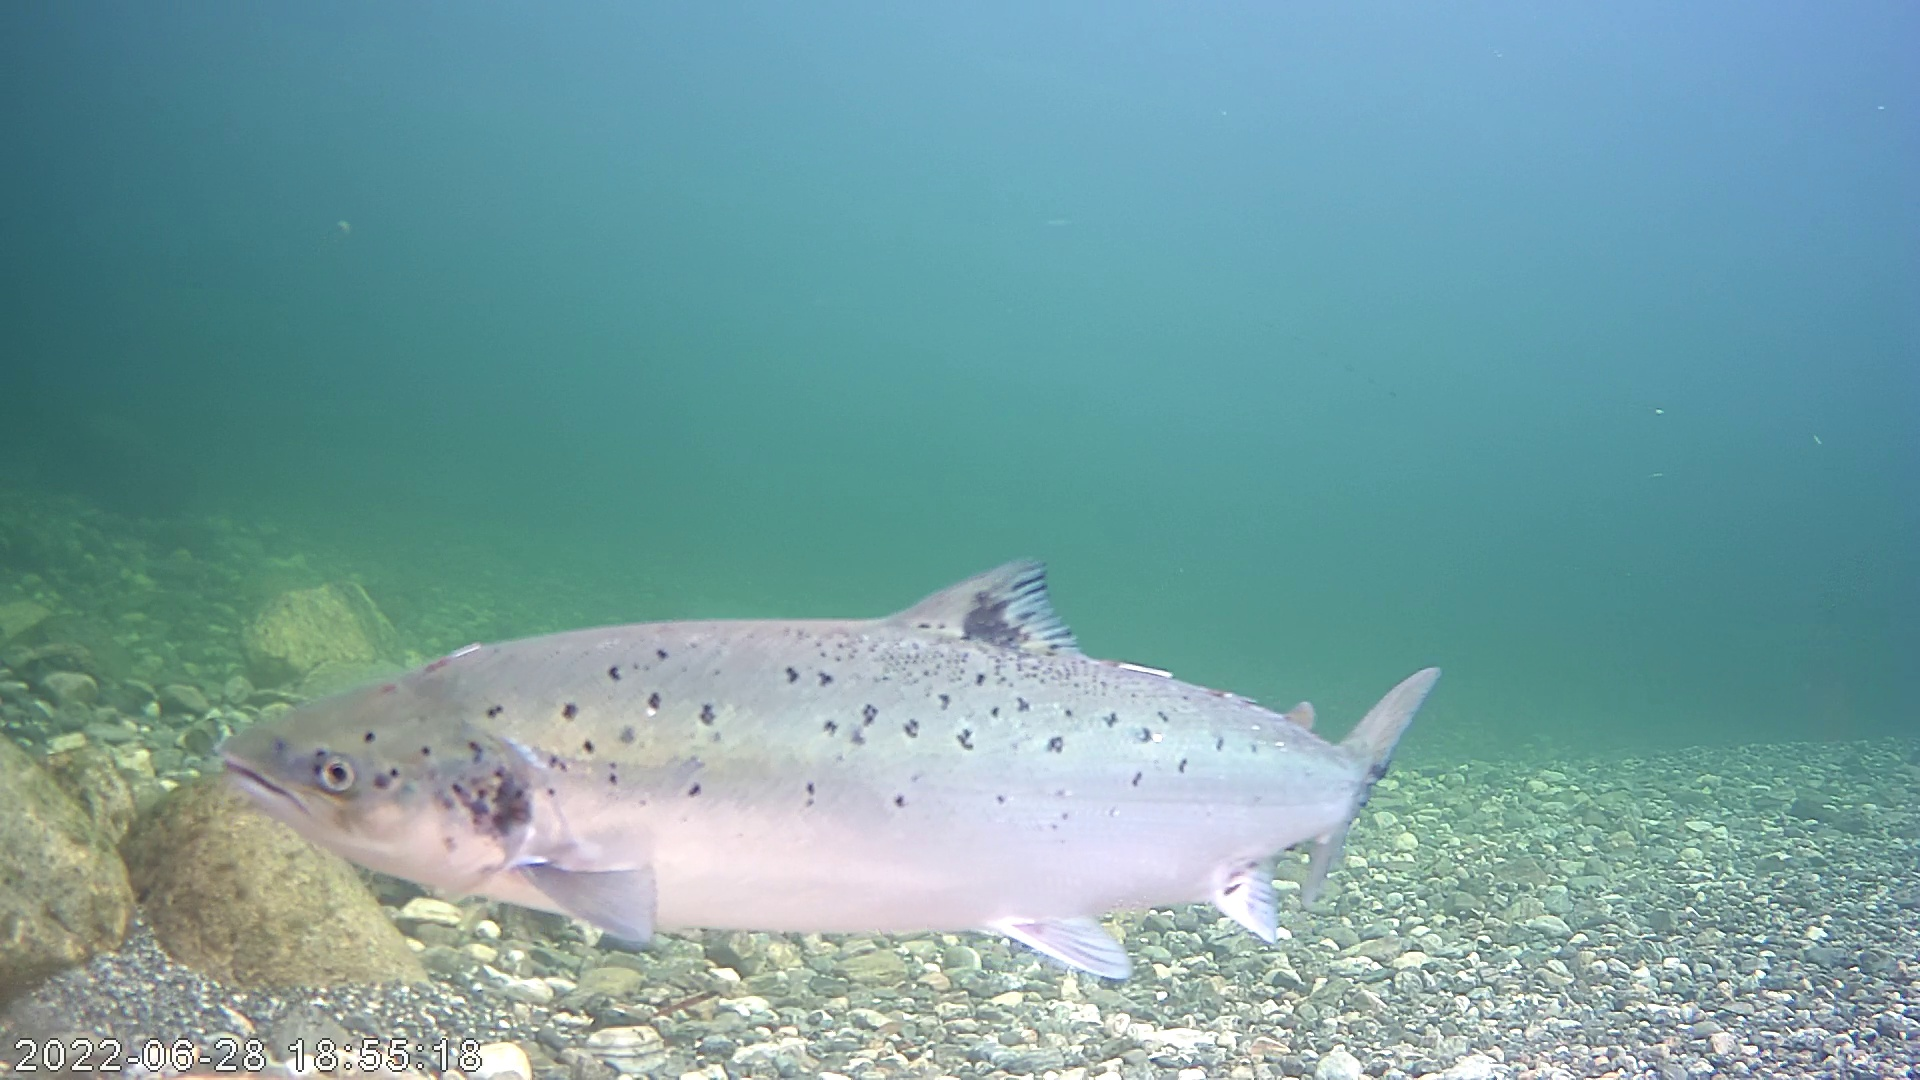salmon: (349, 446, 1429, 938)
